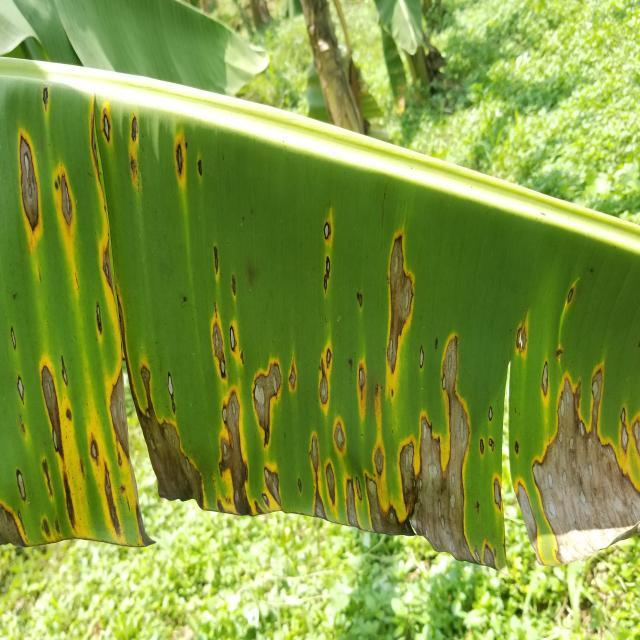Early_rust: (0, 76, 640, 594)
